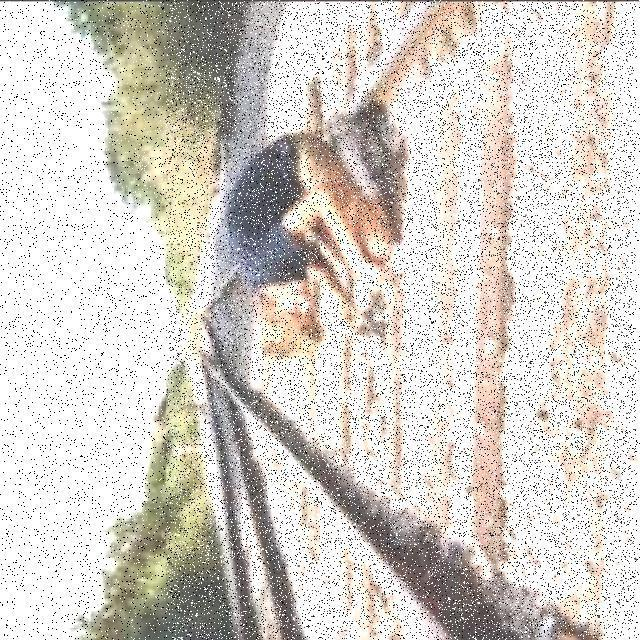danger: (223, 108, 406, 360)
rail: (167, 3, 636, 639)
